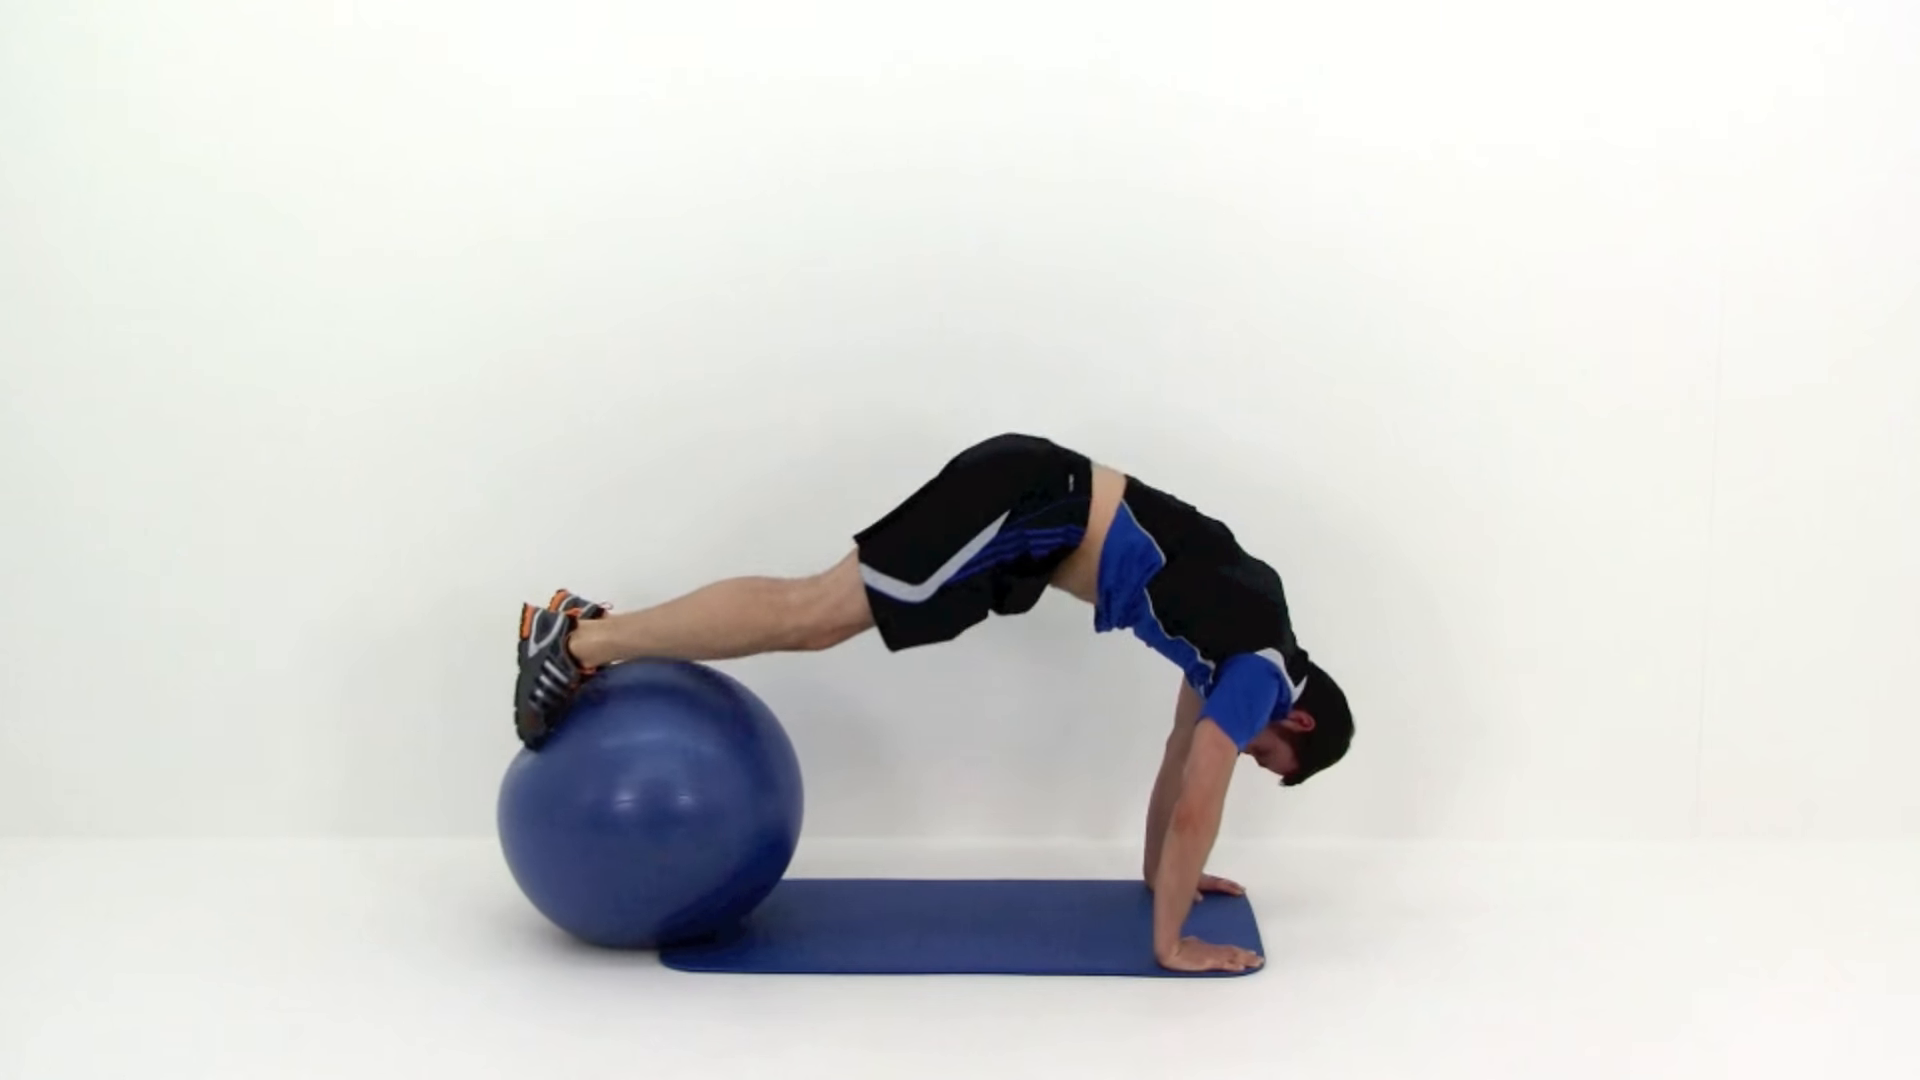yogaball: (491, 651, 814, 967)
